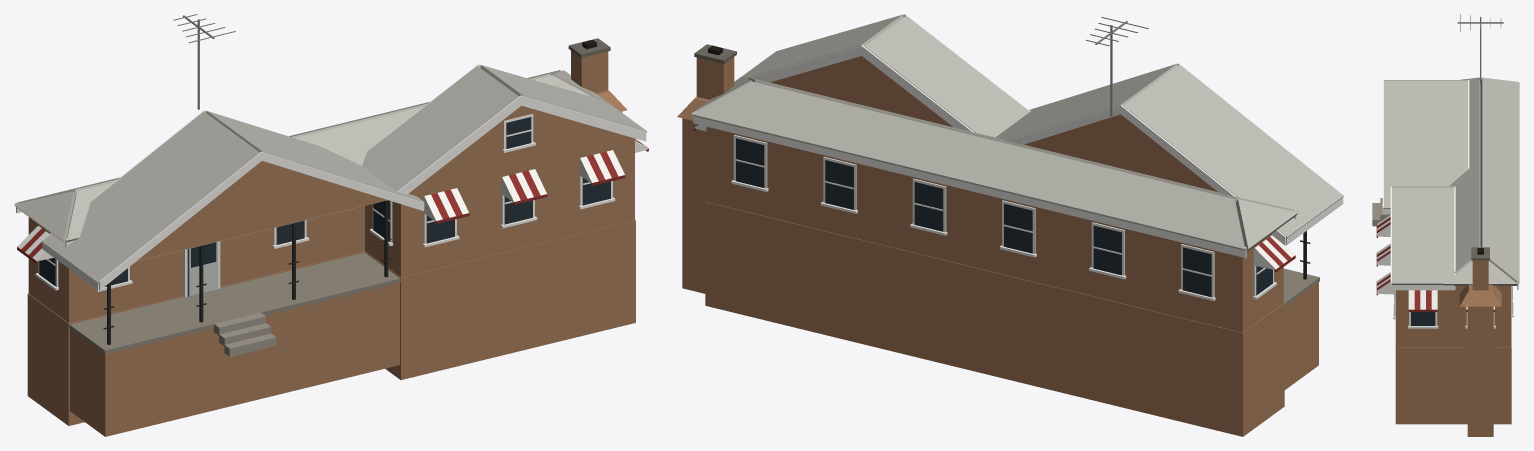
Rendered from small-brick-house-0001.glb.
3 renders of one model, left to right at view 1: azimuth 30°, elevation 25°; view 2: azimuth 150°, elevation 25°; view 3: azimuth 270°, elevation 25°, orthographic. The views are drawn at different scales.
Visible parts, largest first — view 1: kit-small-brick-house-0001; view 2: kit-small-brick-house-0001; view 3: kit-small-brick-house-0001.
Boxes of the visible parts, box(x1,y1,x2,y2) form: kit-small-brick-house-0001: box(14, 14, 648, 436); kit-small-brick-house-0001: box(677, 14, 1343, 436); kit-small-brick-house-0001: box(1372, 14, 1519, 436).
Size of the model in its own units: 18.85 by 10.87 by 5.42.
